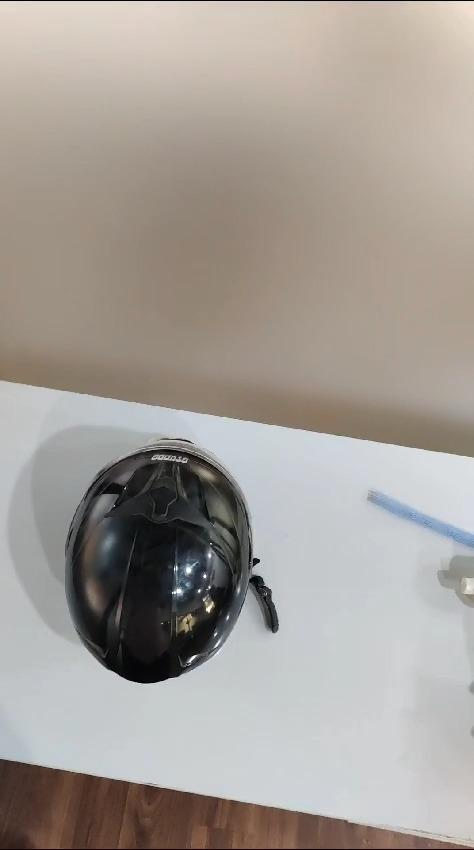Helmet: (50, 424, 255, 689)
